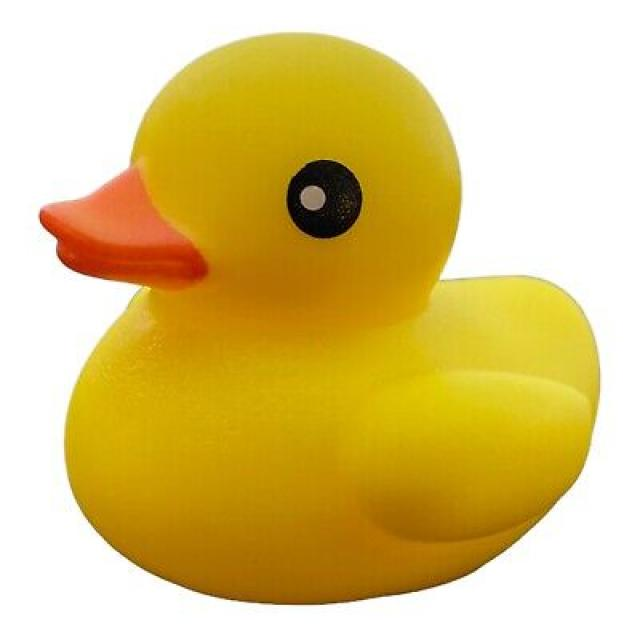Duck: (40, 32, 602, 608)
